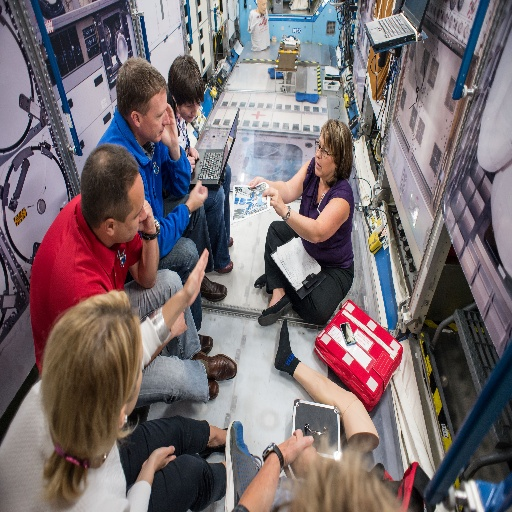hand: (182, 245, 209, 307), (278, 433, 313, 478), (291, 427, 318, 479), (140, 444, 177, 474), (259, 185, 285, 218), (160, 100, 177, 149), (187, 178, 208, 214), (136, 198, 155, 233), (170, 307, 188, 336), (244, 174, 273, 189), (184, 149, 195, 174), (188, 147, 200, 161)
